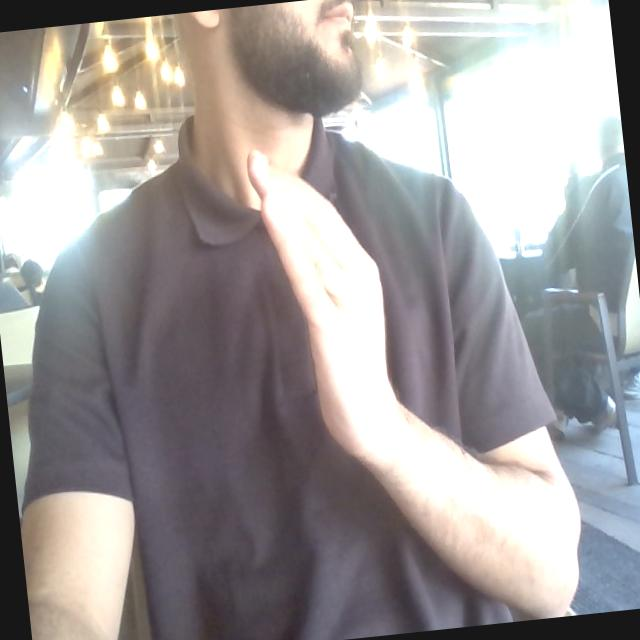Hand: (248, 152, 400, 460)
